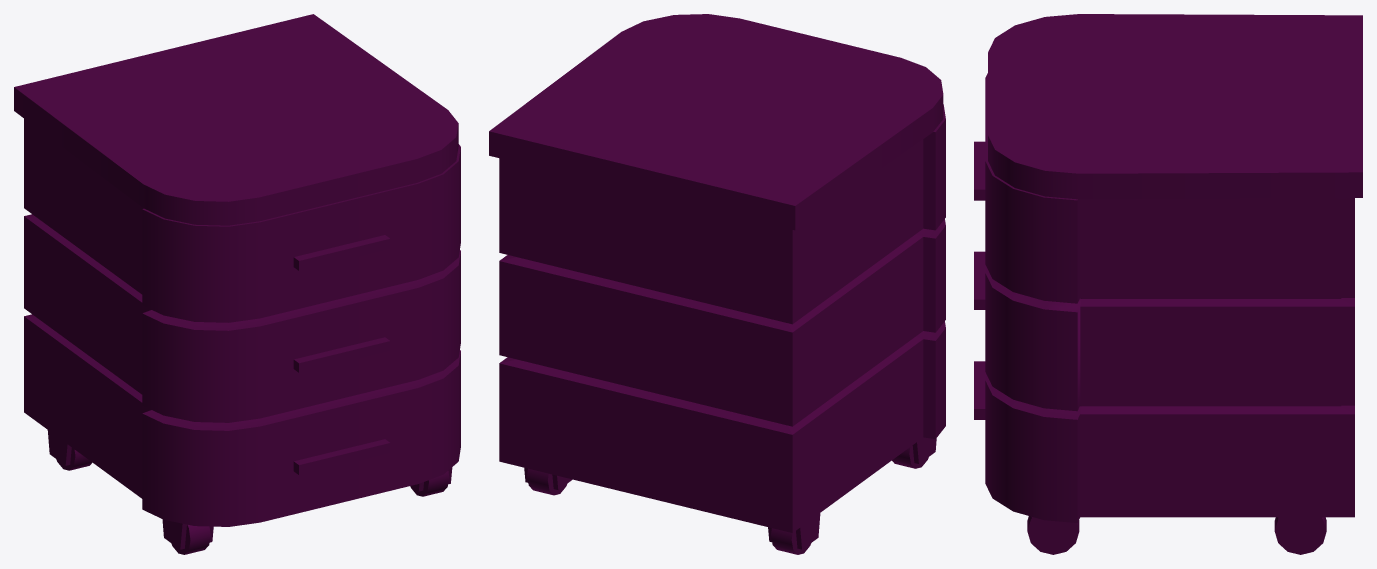
The model's file is Workshop_drawers.fbx.
3 views of the same model, side by side, from view 1: azimuth 30°, elevation 25°; view 2: azimuth 150°, elevation 25°; view 3: azimuth 270°, elevation 25° (orthographic). The views are drawn at different scales.
Visible parts, largest first — view 1: Workshop_drawers; view 2: Workshop_drawers; view 3: Workshop_drawers.
Boxes of the visible parts, bbox=[...] form: Workshop_drawers: bbox=[14, 14, 460, 554]; Workshop_drawers: bbox=[489, 14, 945, 554]; Workshop_drawers: bbox=[974, 14, 1362, 554].
Size of the model in its own units: 77.45 by 87.75 by 78.63.
